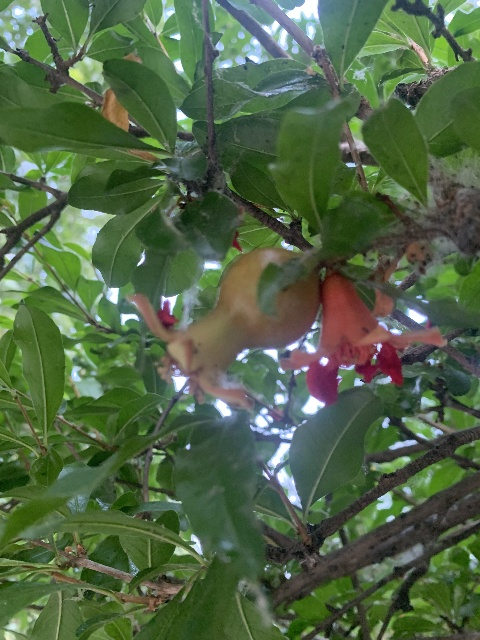early-fruit: (127, 246, 321, 410)
flower: (280, 272, 444, 404)
